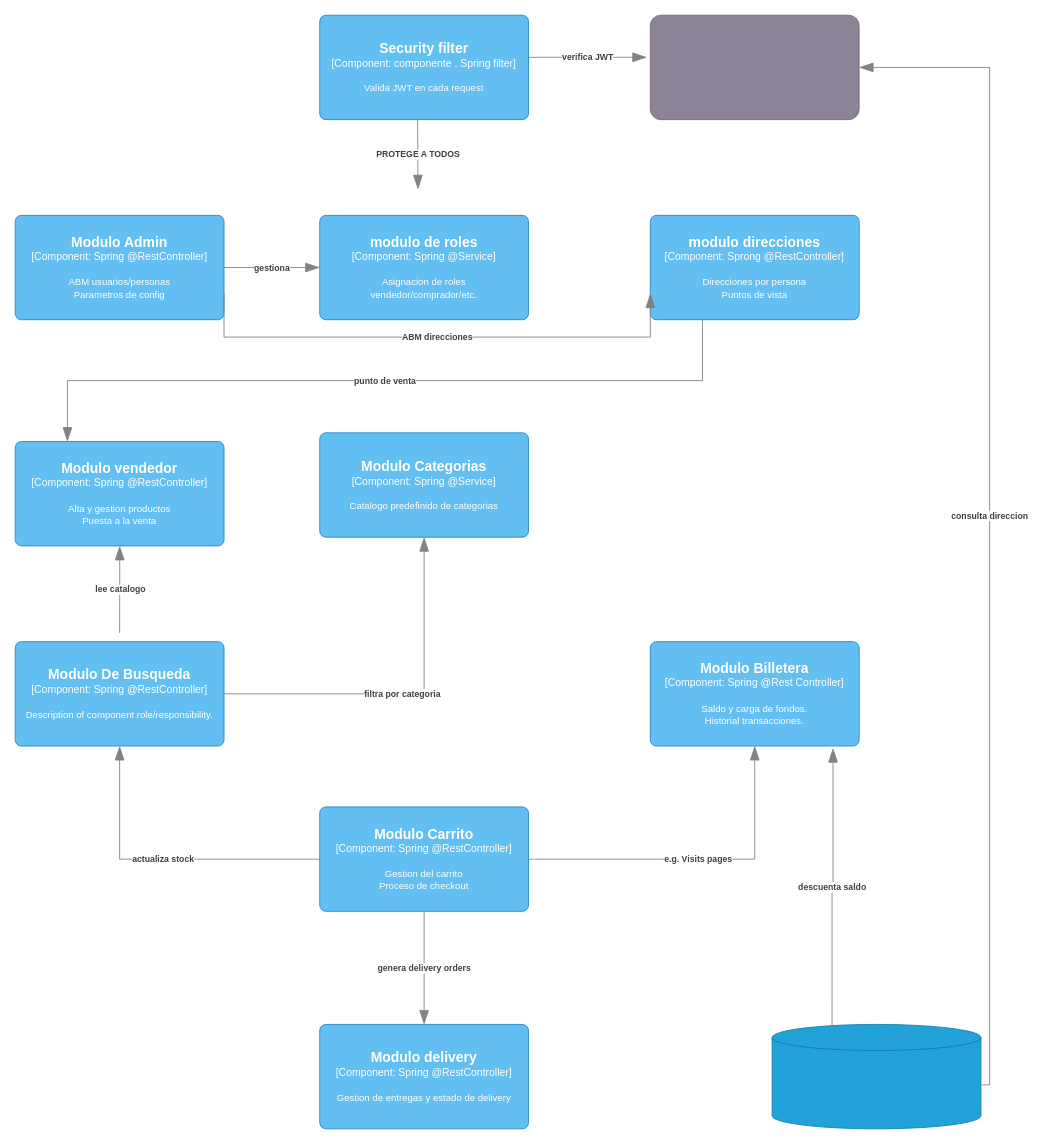
Some shapes in this 1043 by 1144 pixel diagram are drawn without their labels. The shapes that lost their labels are listed below. From the top down, each one's box as (x1, y1, x2, y2) in pixels, then its label:
(649, 14, 859, 120): Firebase Auth [Sistema externo] Verifica tokens JWT
(771, 1024, 981, 1129): Base de Datos [Container: PostgreSQL + JPA ] %c4Description%
